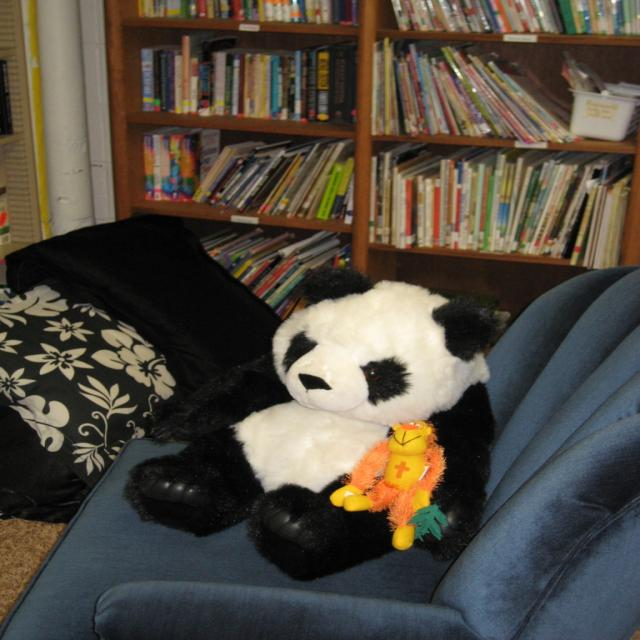panda: (119, 260, 498, 585)
